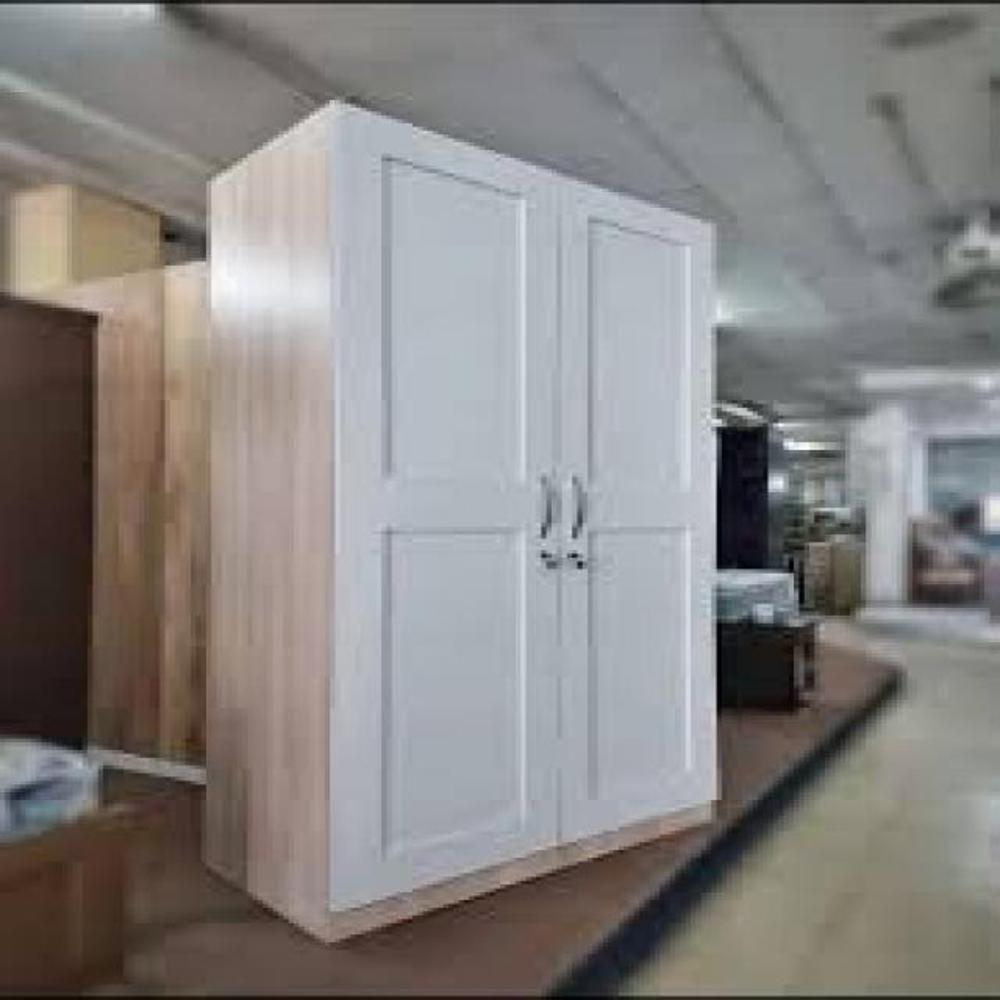cabinet: (218, 96, 729, 950)
